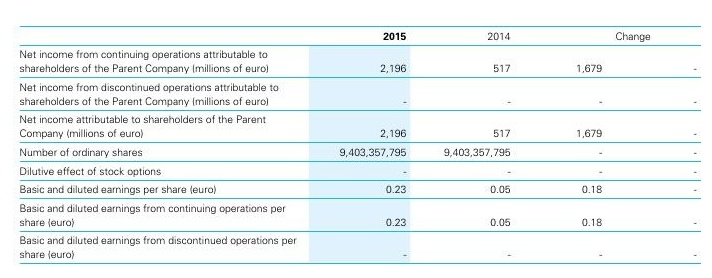table: (0, 0, 712, 278)
